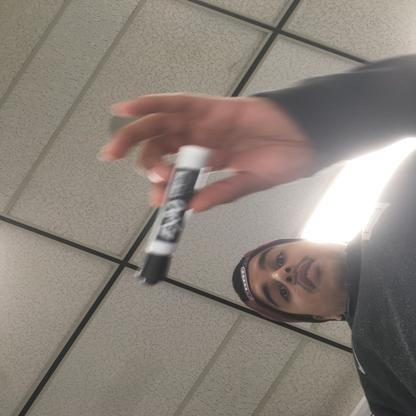expo_marker: (132, 138, 216, 295)
